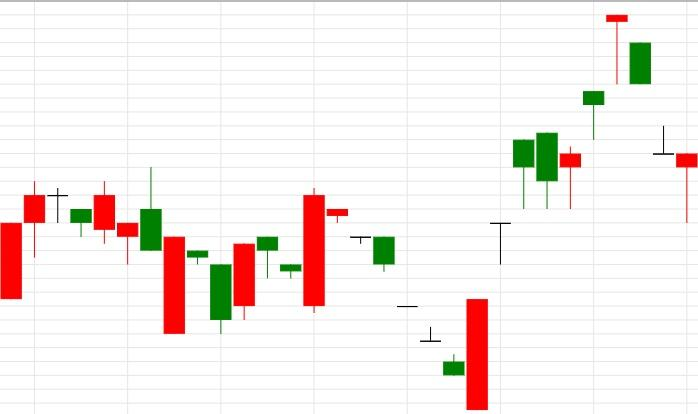bullish_engulfing_rise: (326, 209, 488, 409)
